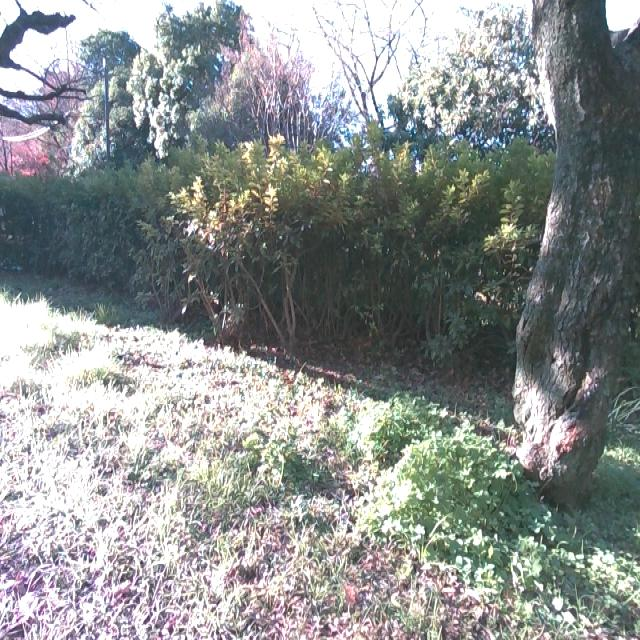bush: (0, 114, 539, 374)
tree: (488, 0, 640, 504), (0, 2, 83, 166)
